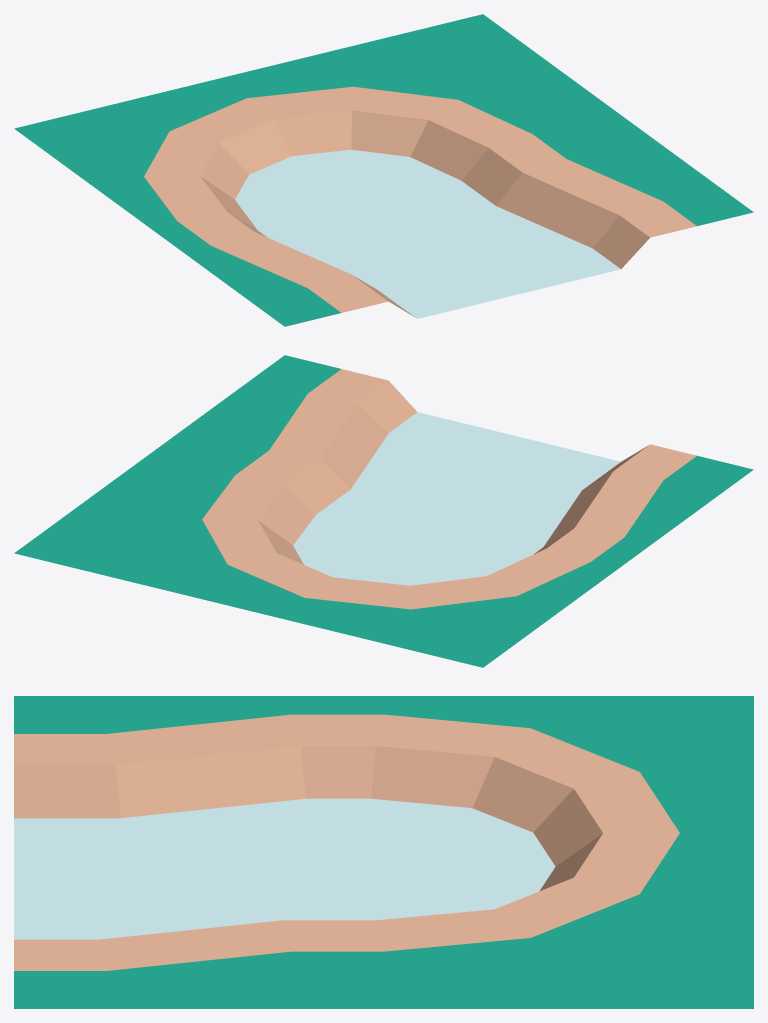
File: ground_riverEndClosed.glb
The picture shows the model from 3 angles, top to bottom: view 1: azimuth 30°, elevation 25°; view 2: azimuth 150°, elevation 25°; view 3: azimuth 270°, elevation 25°; orthographic projection. The views are drawn at different scales.
Visible parts, largest first — view 1: ground_riverEndClosed; view 2: ground_riverEndClosed; view 3: ground_riverEndClosed.
Boxes of the visible parts, x1,y1,x2,y2 form: ground_riverEndClosed: [14, 14, 753, 326]; ground_riverEndClosed: [14, 355, 753, 667]; ground_riverEndClosed: [14, 696, 753, 1008].
Size of the model in its own units: 1 by 0.05 by 1.
